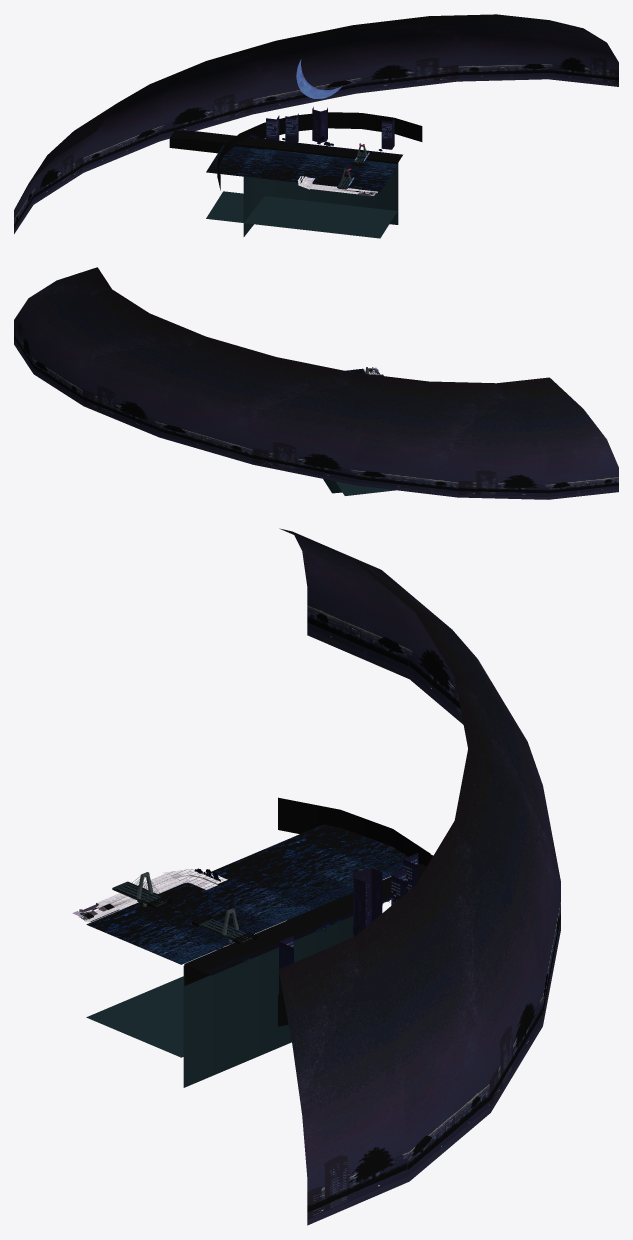
3 views of the same model, one above another, from view 1: azimuth 30°, elevation 25°; view 2: azimuth 150°, elevation 25°; view 3: azimuth 270°, elevation 25° (orthographic). The views are drawn at different scales.
Visible parts, largest first — view 1: pSphere1, pPlane15, pPlane87, pPlane51, pCube2, pCylinder2, polySurface22, pPlane84, dodai, pCylinder1, pCube11; view 2: pSphere1, pPlane15; view 3: pSphere1, pPlane87, pPlane51, pPlane15, pCube2, pCylinder2, dodai, pCylinder1.
Part boxes in pixels (x1,y1,x2,y2): pSphere1: (14,14,618,233); pPlane15: (206,191,397,238); pPlane87: (206,145,397,191); pPlane51: (243,149,398,236); pCube2: (169,130,402,163); pCylinder2: (217,112,422,190); polySurface22: (266,113,298,142); pPlane84: (296,59,342,98); dodai: (298,176,376,196); pCylinder1: (312,107,327,142); pCube11: (381,118,394,149); pSphere1: (14,267,618,499); pPlane15: (335,481,395,495); pSphere1: (278,528,560,1225); pPlane87: (86,824,433,964); pPlane51: (183,892,353,1087); pPlane15: (86,976,183,1057); pCube2: (184,863,426,985); pCylinder2: (278,797,432,1026); dodai: (72,868,227,921); pCylinder1: (353,868,382,936).
Bounding box in the file's own units: 114 × 25.97 × 39.72.
